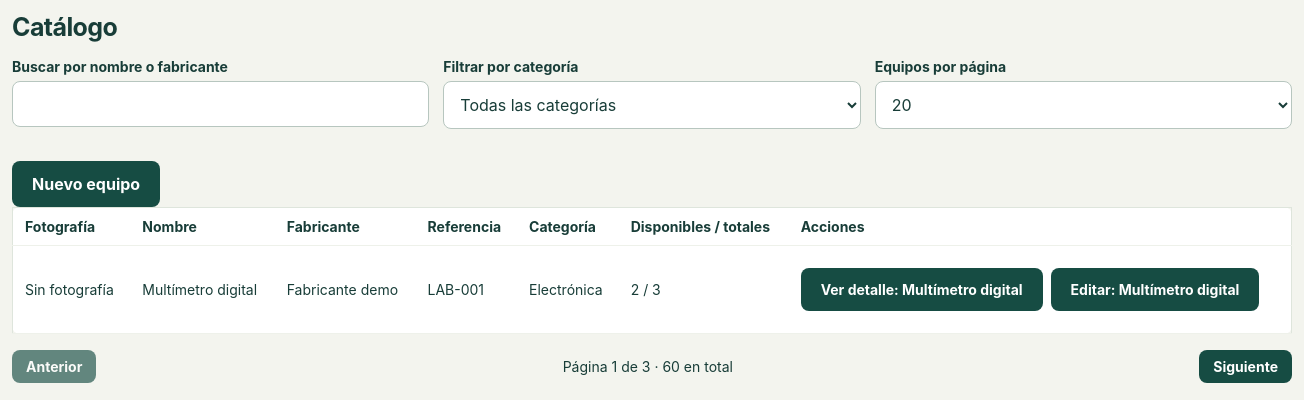
Test: searches, filters and paginates as admin with Bearer authentication
Expected: the text "2 / 3" is shown, left=619, top=246, right=789, bottom=334
Step 1. Click the button "Siguiente" → (1246, 366), box left=1199, top=350, right=1292, bottom=383
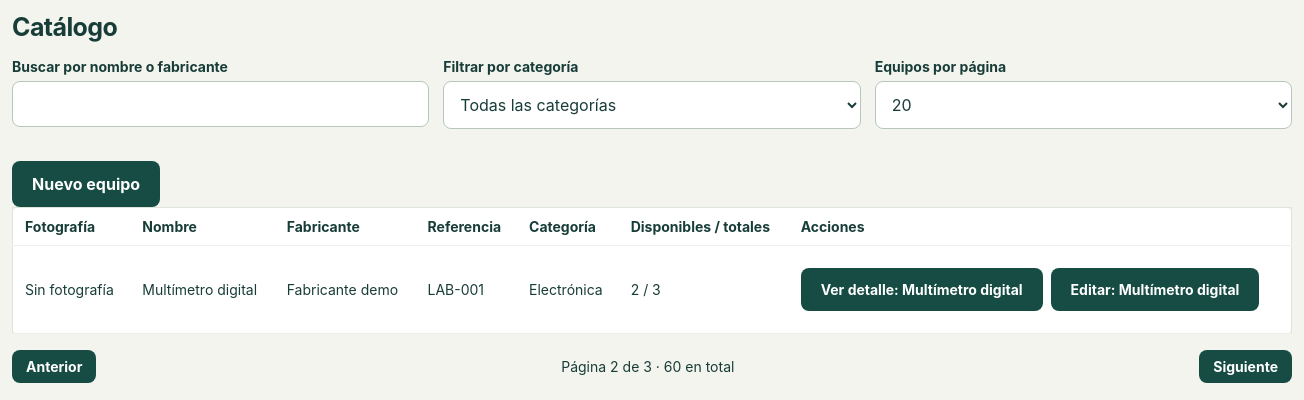
Expected: the text "Página 2 de 3 · 60 en total" is shown, left=561, top=358, right=734, bottom=375
Step 2. Type "multi & demo" into the search field labelled "Buscar por nombre o fabricante" → (221, 104), box left=12, top=81, right=429, bottom=127
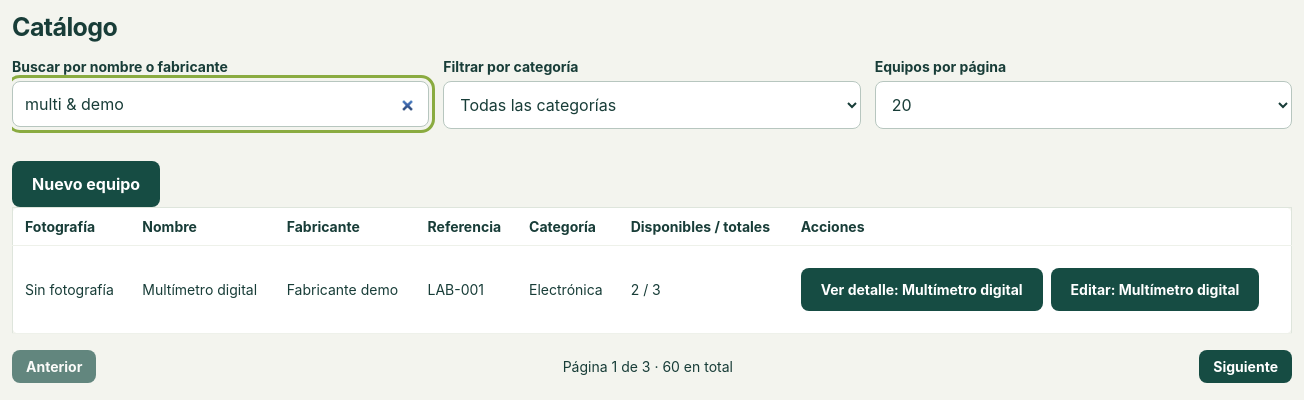
Step 3. Select "Electrónica" in the dropdown labelled "Filtrar por categoría" → (652, 105), box left=443, top=81, right=861, bottom=129
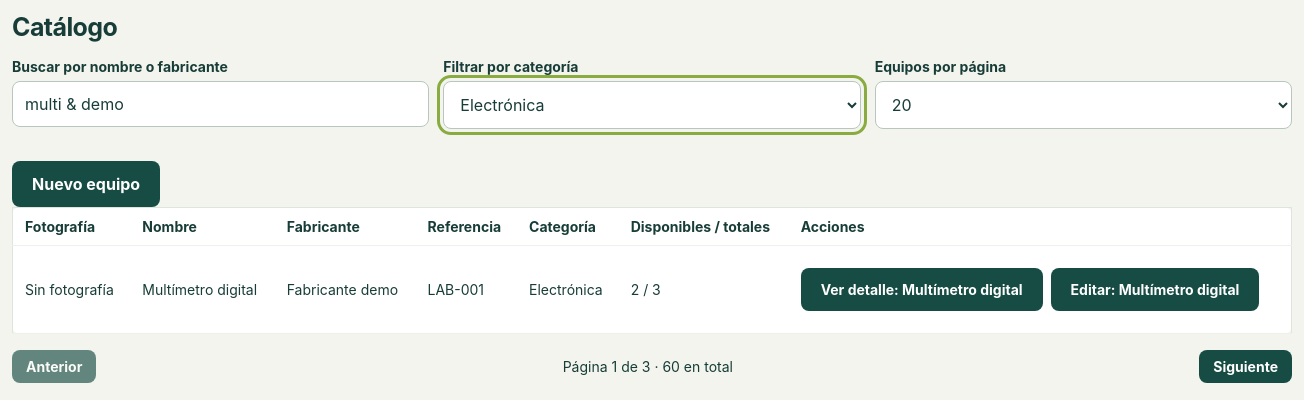
Step 4. Select "50" in the dropdown labelled "Equipos por página" → (1083, 105), box left=875, top=81, right=1292, bottom=129
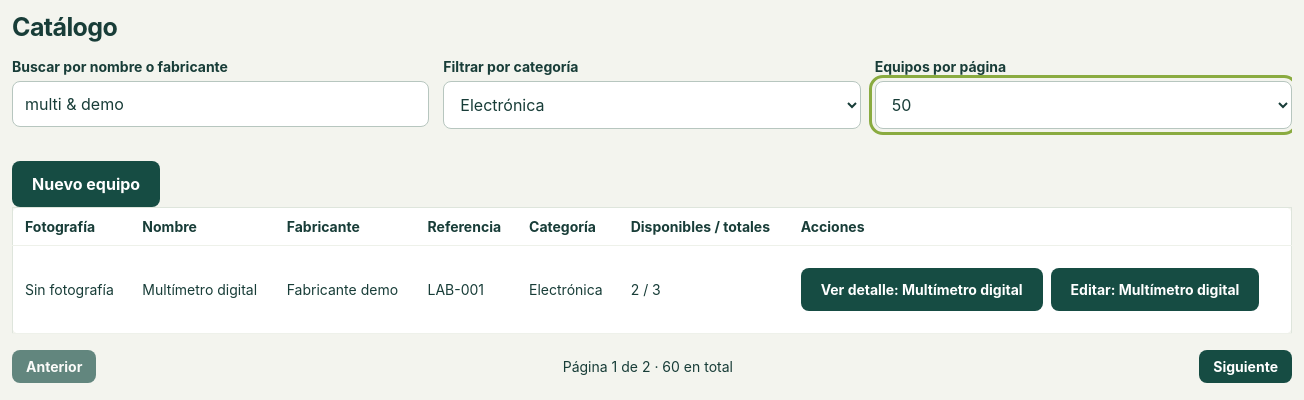
Expected: the text "Página 1 de 2 · 60 en total" is shown, left=563, top=358, right=733, bottom=375
